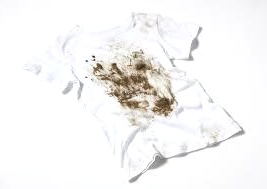earth: (108, 63, 155, 96), (90, 56, 106, 80), (120, 98, 147, 109), (154, 99, 173, 113)
